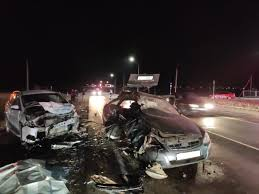car: (102, 84, 218, 169), (8, 83, 84, 152)
